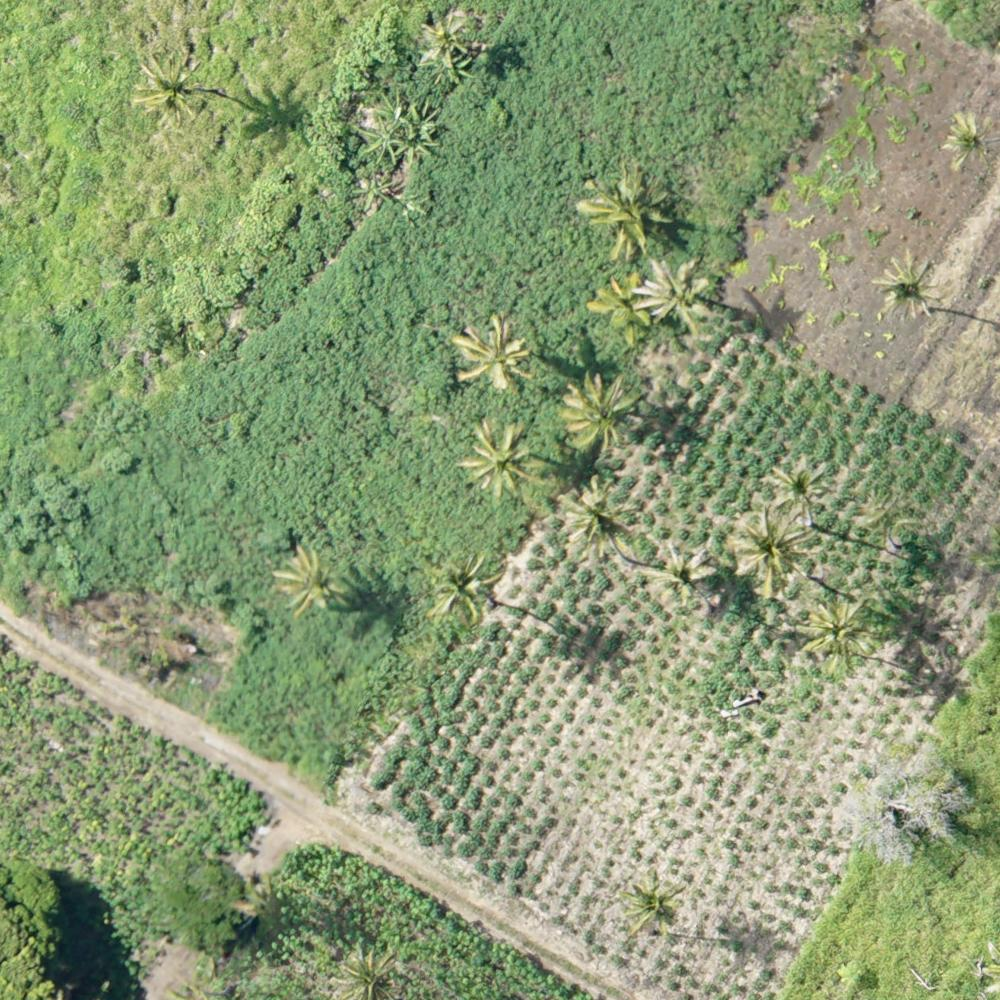Palm: (554, 372, 641, 457), (581, 174, 666, 259), (454, 314, 538, 389), (642, 257, 716, 341), (737, 511, 813, 591), (565, 477, 641, 556), (805, 595, 884, 668), (133, 54, 211, 125), (459, 427, 535, 497), (874, 254, 943, 325), (768, 457, 839, 524), (275, 547, 343, 614), (432, 555, 499, 623), (588, 276, 659, 339), (616, 876, 685, 940), (652, 544, 722, 605), (939, 109, 997, 171), (332, 949, 402, 1000)
